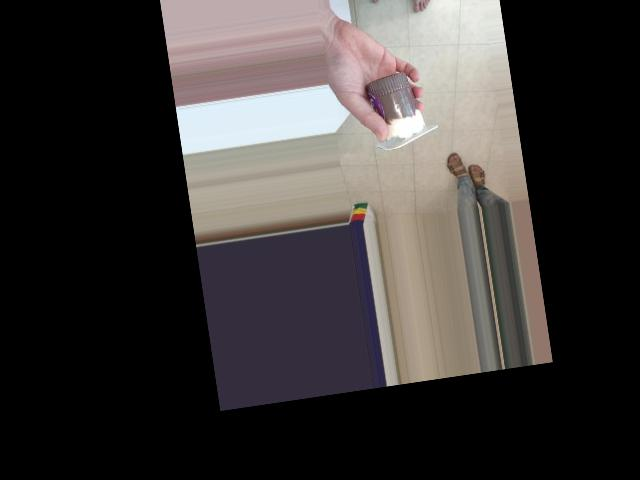milky: (368, 66, 427, 153)
